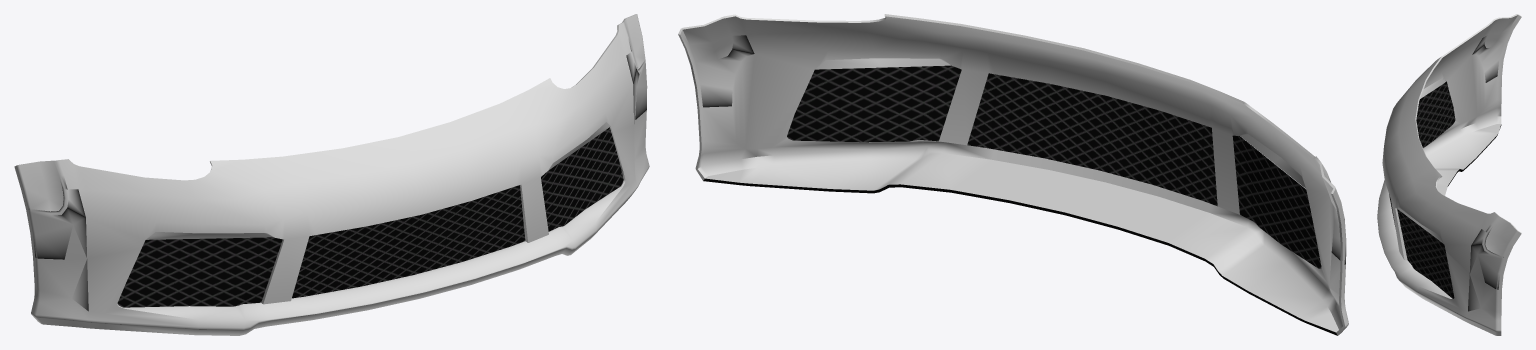
Rendered from sbr_front_s.dae.
The picture shows the model from 3 angles, left to right: view 1: azimuth 30°, elevation 25°; view 2: azimuth 150°, elevation 25°; view 3: azimuth 270°, elevation 25°; orthographic projection. The views are drawn at different scales.
Visible parts, largest first — view 1: sbr_bumper_F_SS, sbr_bumper_runninglights_R; view 2: sbr_bumper_F_SS, sbr_bumper_runninglights_L, sbr_bumper_runninglights_R; view 3: sbr_bumper_F_SS, sbr_bumper_runninglights_L, sbr_bumper_runninglights_R.
Boxes of the visible parts, x1,y1,x2,y2 form: sbr_bumper_F_SS: [14, 14, 649, 335]; sbr_bumper_runninglights_R: [146, 232, 273, 239]; sbr_bumper_F_SS: [678, 14, 1348, 335]; sbr_bumper_runninglights_L: [815, 58, 950, 69]; sbr_bumper_runninglights_R: [1240, 133, 1305, 188]; sbr_bumper_F_SS: [1377, 14, 1521, 335]; sbr_bumper_runninglights_L: [1397, 207, 1443, 243]; sbr_bumper_runninglights_R: [1420, 78, 1446, 98].
Bounding box in the file's own units: 1.71 × 0.4804 × 0.422.
